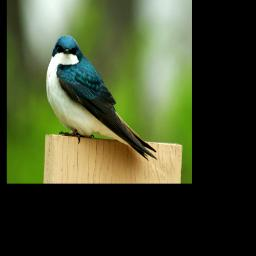Swallow: (44, 34, 159, 162)
